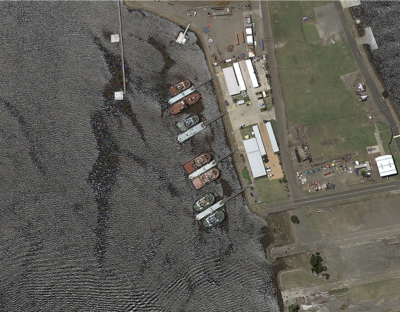boat: (169, 92, 202, 115), (191, 167, 222, 191), (183, 152, 213, 175), (202, 210, 228, 230), (193, 193, 216, 213), (177, 115, 201, 134), (169, 79, 193, 97), (182, 35, 190, 45)
